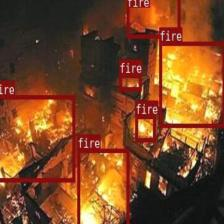fire: (0, 94, 74, 182), (158, 40, 224, 126), (76, 148, 128, 224), (126, 0, 180, 37), (134, 114, 155, 141), (119, 74, 141, 90)
